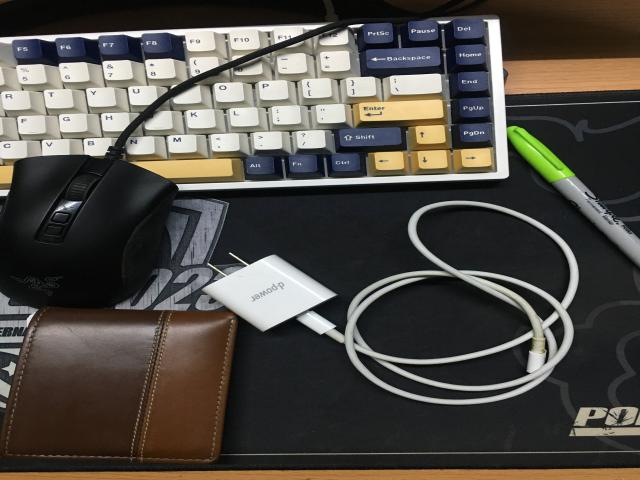Mouse: (0, 154, 178, 308)
Pen: (507, 126, 640, 265)
Wallet: (2, 307, 237, 464)
wire: (203, 255, 573, 405)
